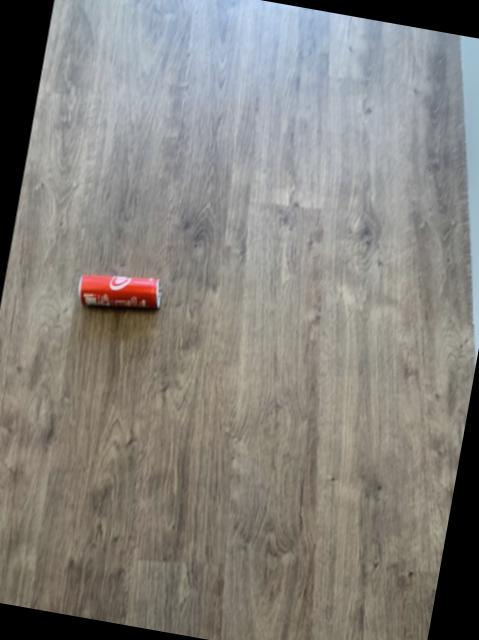metal: (76, 275, 157, 308)
